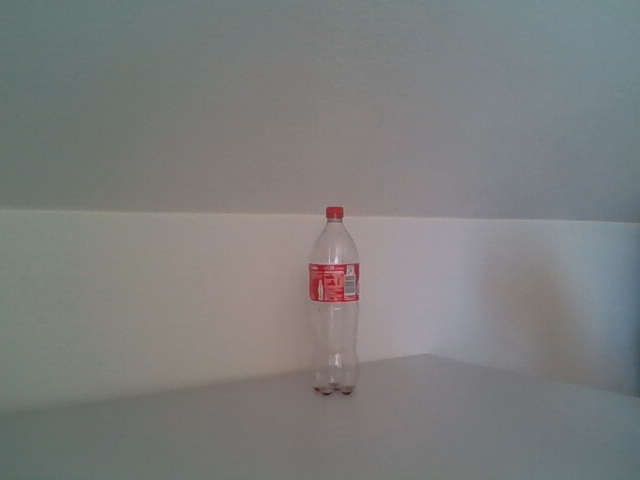bottle: (308, 205, 359, 397)
